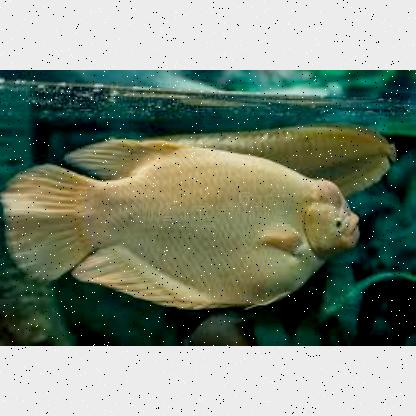gurame: (6, 144, 360, 306)
